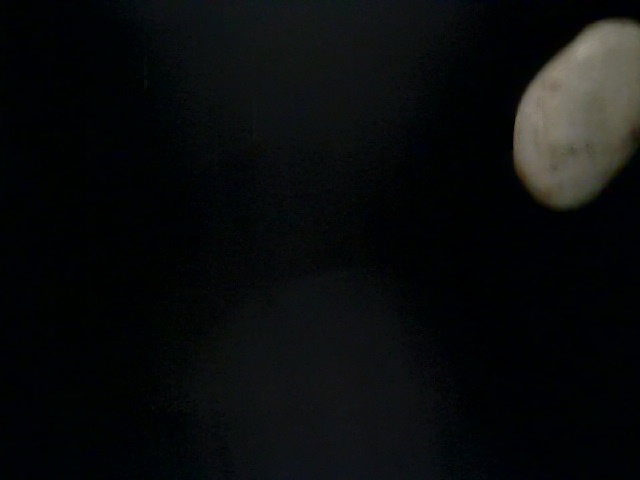QTLJ: (130, 194, 372, 441)
